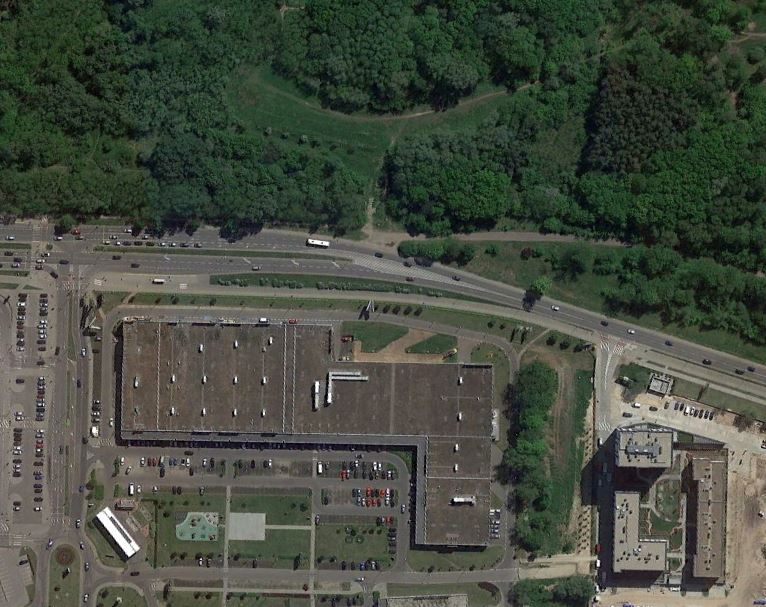block of flats: (608, 490, 676, 580), (688, 452, 727, 585), (614, 425, 677, 475)
shopping_center: (115, 305, 497, 554)
